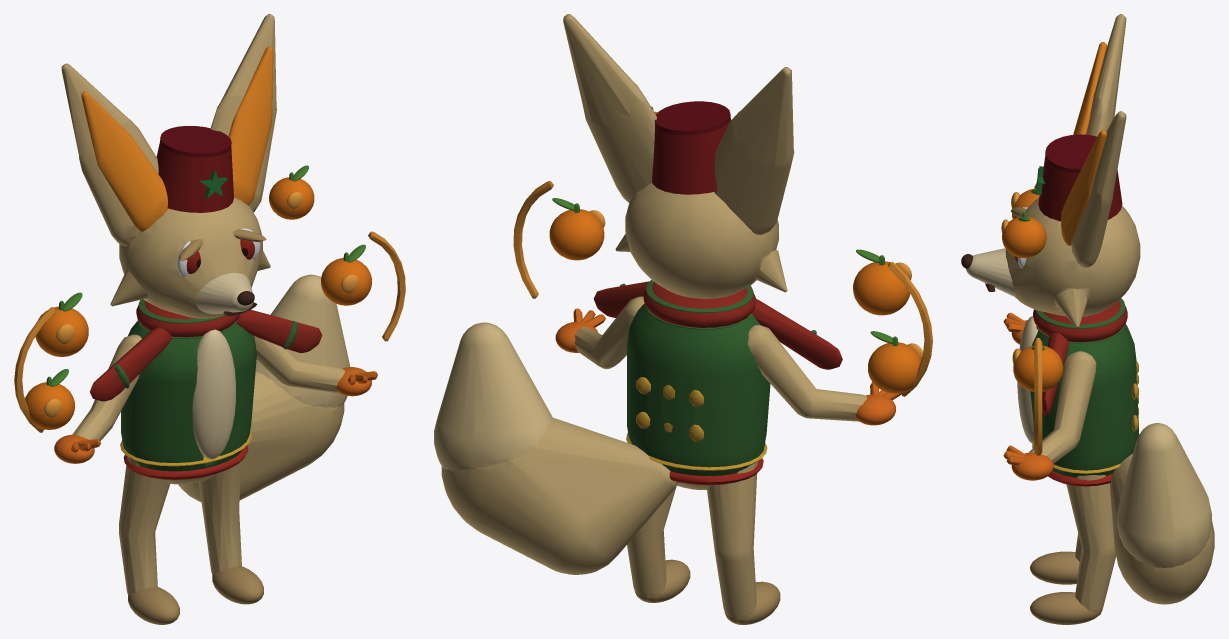
The model's file is berkest.glb.
3 views of the same model, side by side, from view 1: azimuth 30°, elevation 25°; view 2: azimuth 150°, elevation 25°; view 3: azimuth 270°, elevation 25° (orthographic). The views are drawn at different scales.
Visible parts, largest first — view 1: creature; view 2: creature; view 3: creature.
Part boxes in pixels (bbox=[...]): creature: bbox=[14, 14, 405, 624]; creature: bbox=[434, 14, 932, 624]; creature: bbox=[961, 14, 1214, 624].
Size of the model in its own units: 0.7534 by 1 by 0.4267.
